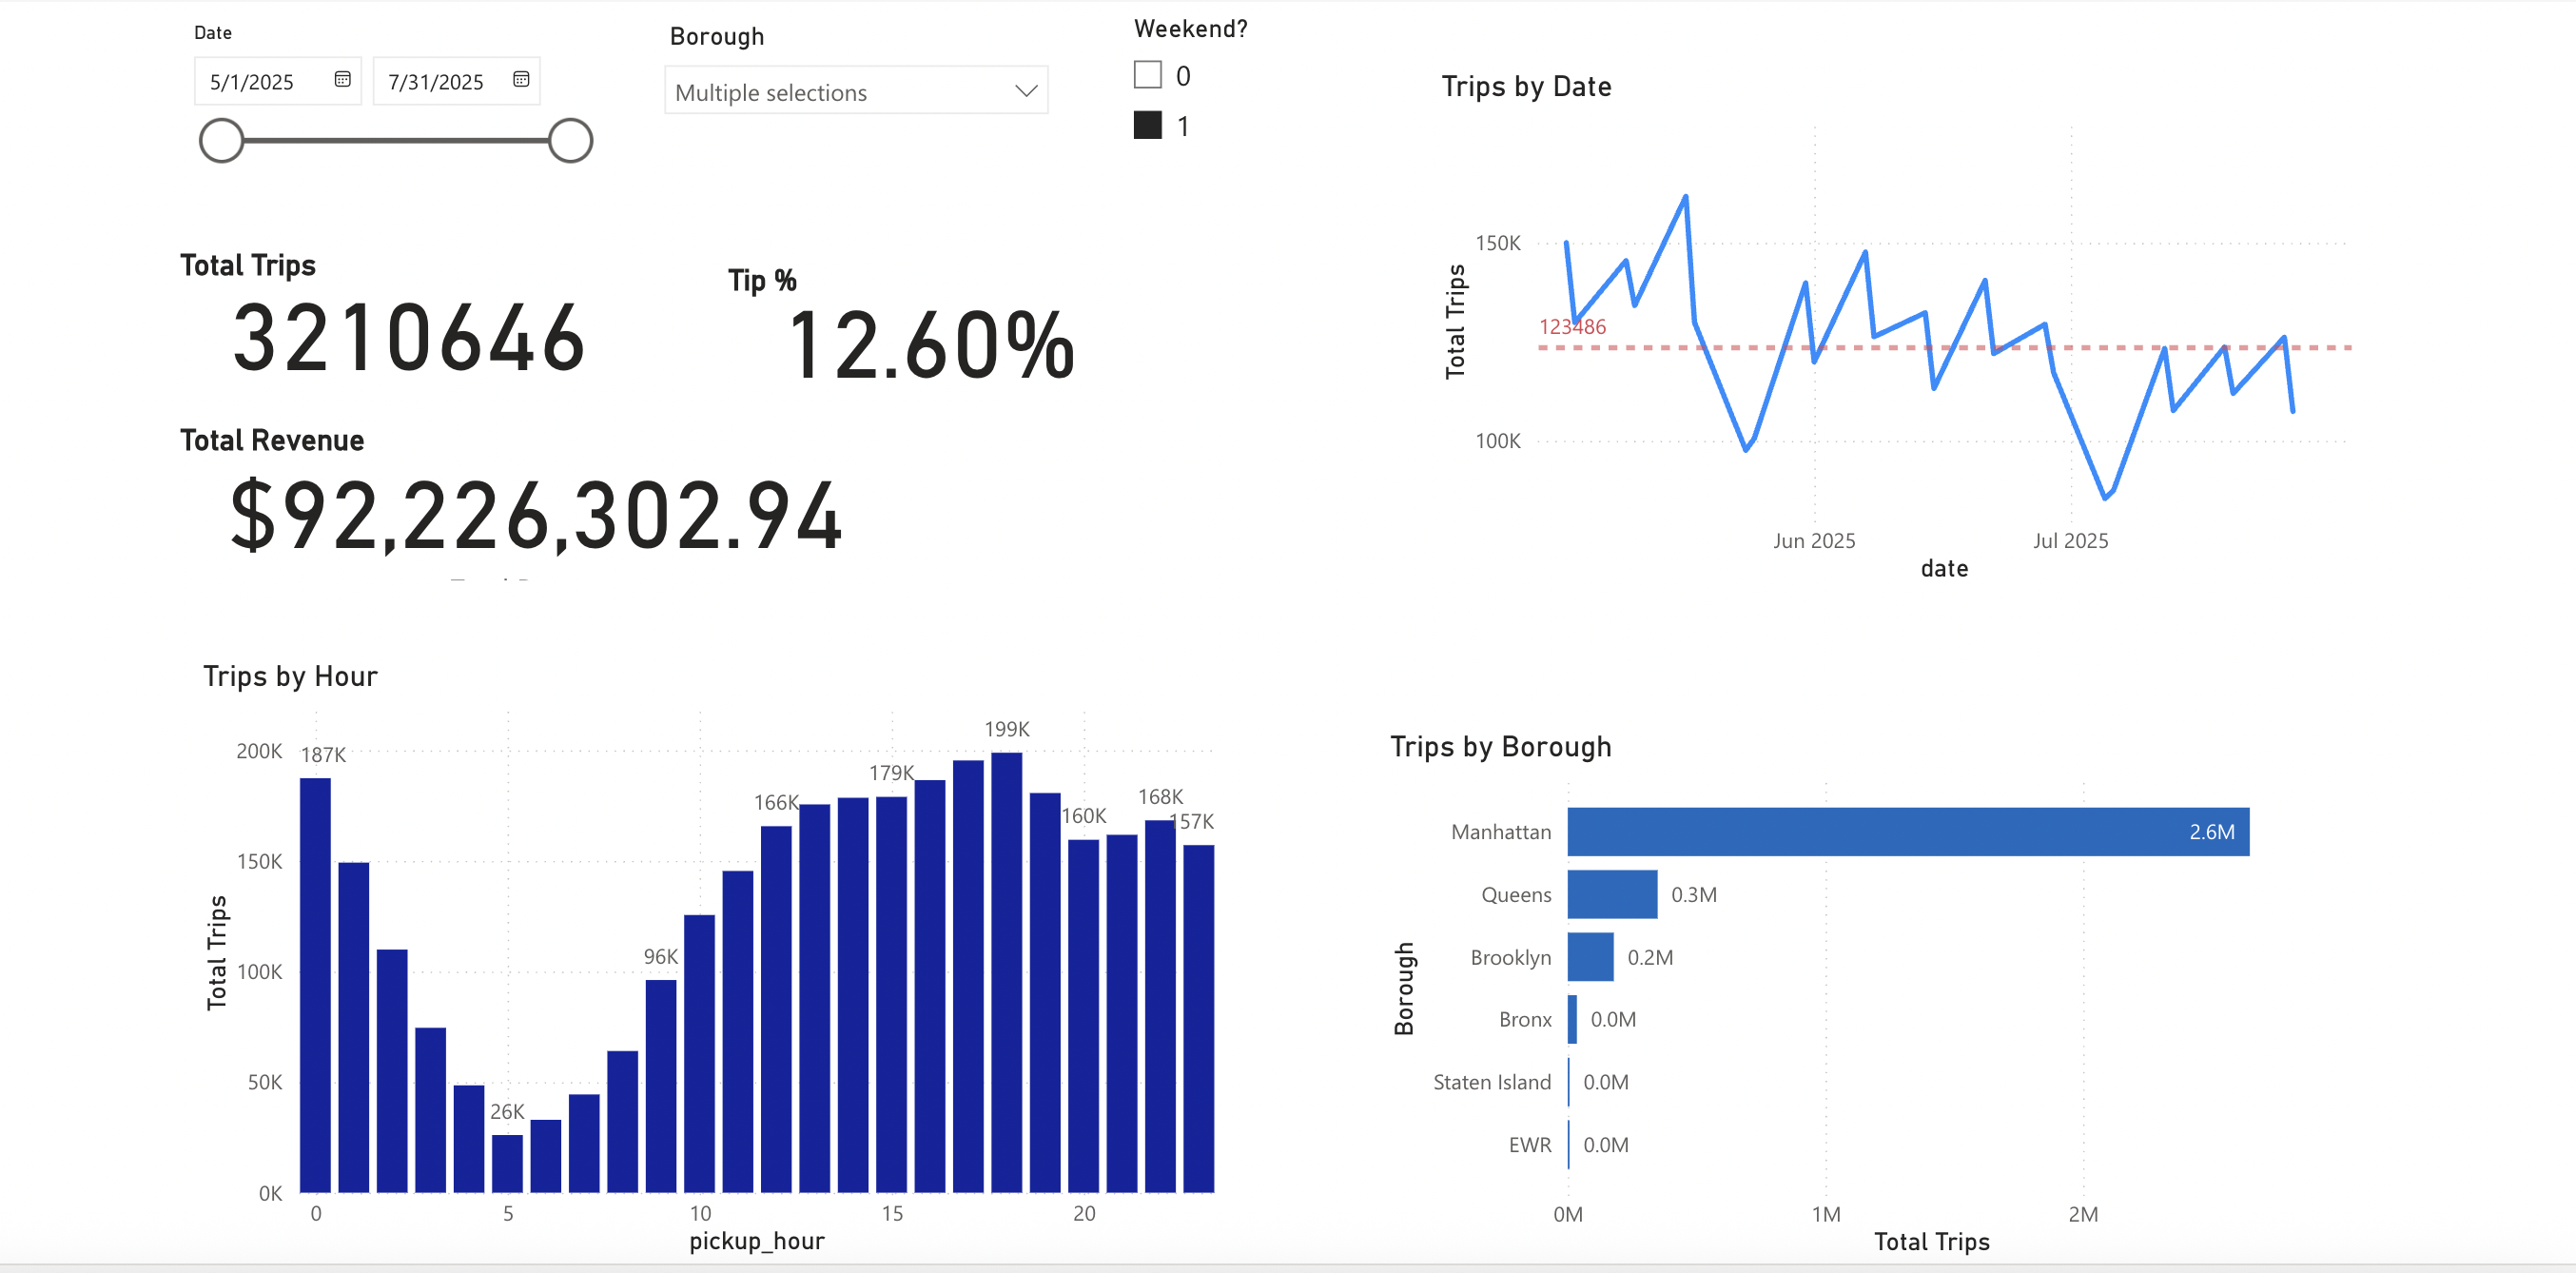

This screenshot's page, from the dashboard's own definition file:
{"tool":"powerbi","page":{"name":"Page 1","canvas":[1280,720],"ordinal":0},"visuals":[{"type":"slicer","fields":{"Values":["gold_dim_date.date"]},"box":[10.7,7.6,248.7,105.3],"z":0},{"type":"card","title":"Total Trips","fields":{"Values":["gold_dim_date.Total Trips"]},"box":[10.7,141.9,271.6,90],"z":1000},{"type":"card","title":"Total Revenue","fields":{"Values":["gold_dim_date.Total Revenue"]},"box":[10.7,242.6,416.5,93.1],"z":2000},{"type":"card","title":"Tip %","fields":{"Values":["gold_dim_date.Tip %"]},"box":[323.4,151,239.5,80.9],"z":3000},{"type":"lineChart","title":"Trips by Date","fields":{"Category":["gold_dim_date.date"],"Y":["gold_dim_date.Total Trips"]},"box":[730.8,39.7,541.6,296],"z":4000},{"type":"clusteredBarChart","title":"Trips by Borough","fields":{"Y":["gold_dim_date.Total Trips"],"Category":["gold_dim_zone.Borough"]},"box":[701.8,416.5,541.6,303.6],"z":5000},{"type":"clusteredColumnChart","title":"Trips by Hour","fields":{"Y":["gold_dim_date.Total Trips"],"Category":["gold_fact_trips.pickup_hour"]},"box":[24.4,376.8,587.4,343.3],"z":6000},{"type":"slicer","fields":{"Values":["gold_dim_zone.Borough"]},"box":[282.2,7.6,239.5,87],"z":6001},{"type":"slicer","title":"Weekend","fields":{"Values":["gold_dim_date.is_weekend"]},"box":[547.7,3.1,183.1,93.1],"z":6002}]}

Visuals, with their boxes on the page's 1280x720 design canvas (x1, y1, x2, y2). These are canvas units, not pixel positions in the 2576x1273 screenshot, which may show the page scaled, cropped or inside an application window:
slicer - gold_dim_date.date: detection(11, 8, 259, 113)
"Total Trips" card: detection(11, 142, 282, 232)
"Total Revenue" card: detection(11, 243, 427, 336)
"Tip %" card: detection(323, 151, 563, 232)
"Trips by Date" lineChart: detection(731, 40, 1272, 336)
"Trips by Borough" clusteredBarChart: detection(702, 416, 1243, 720)
"Trips by Hour" clusteredColumnChart: detection(24, 377, 612, 720)
slicer - gold_dim_zone.Borough: detection(282, 8, 522, 95)
"Weekend" slicer: detection(548, 3, 731, 96)
